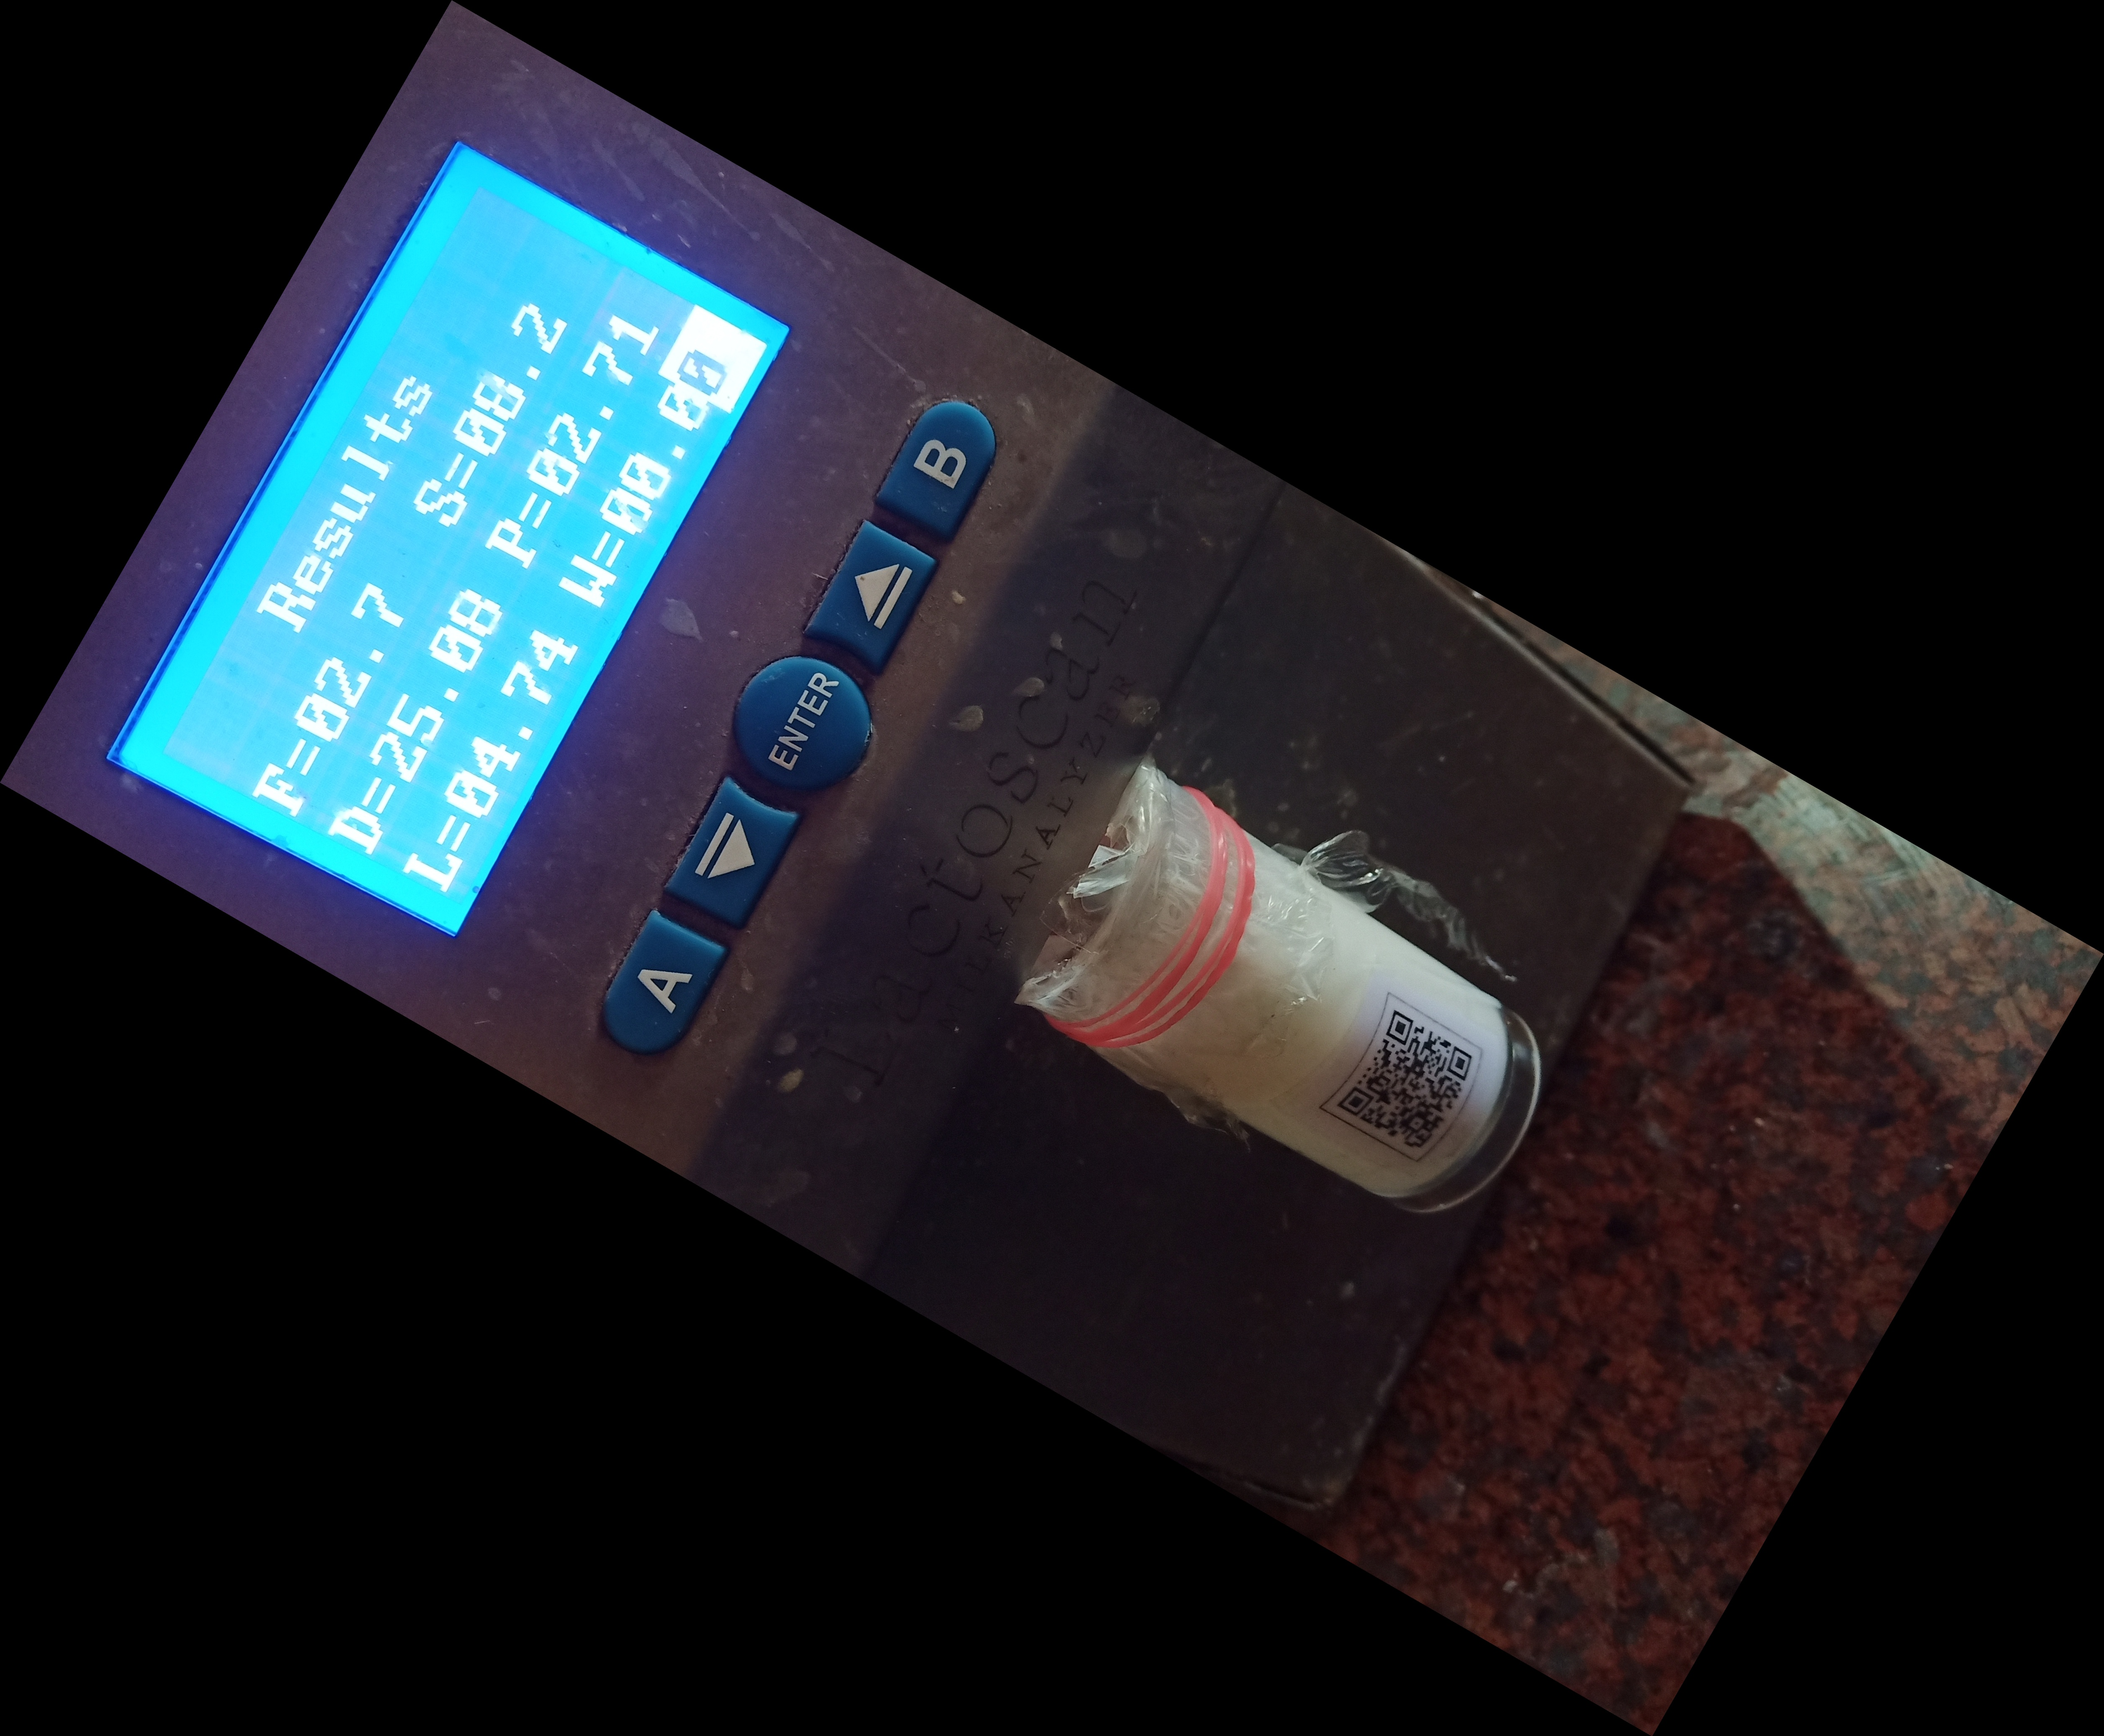lcd: (105, 145, 797, 1009)
qr: (1309, 990, 1494, 1181)
